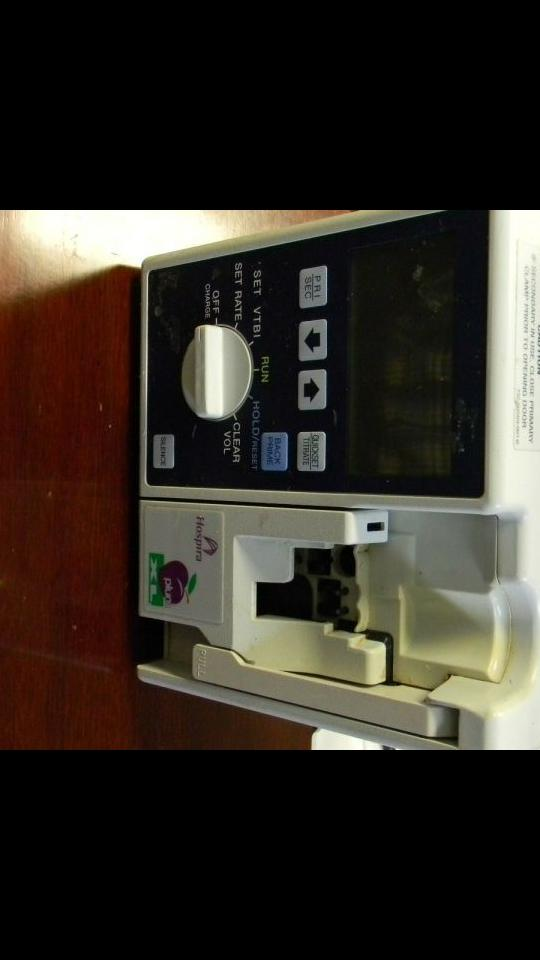plumxl1: (120, 215, 535, 745)
